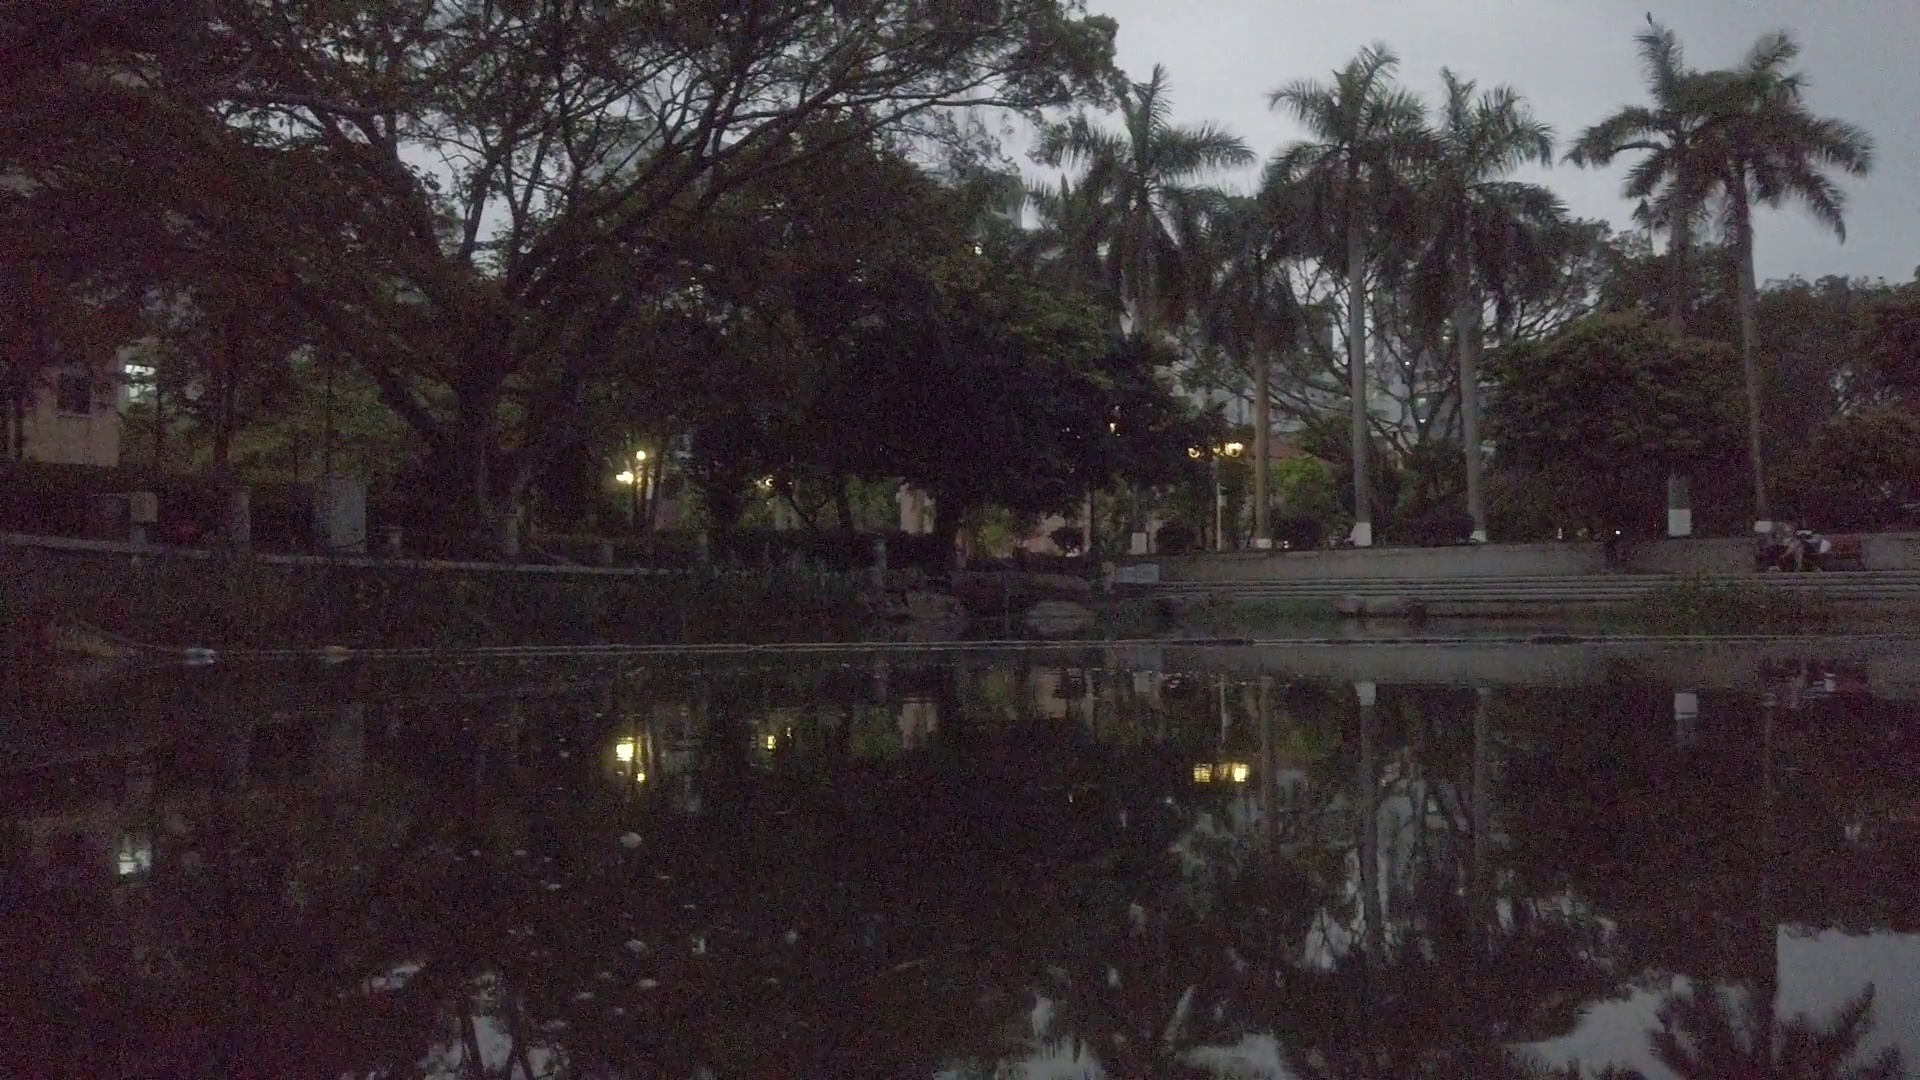bottle: (183, 644, 218, 663), (323, 646, 355, 658)
